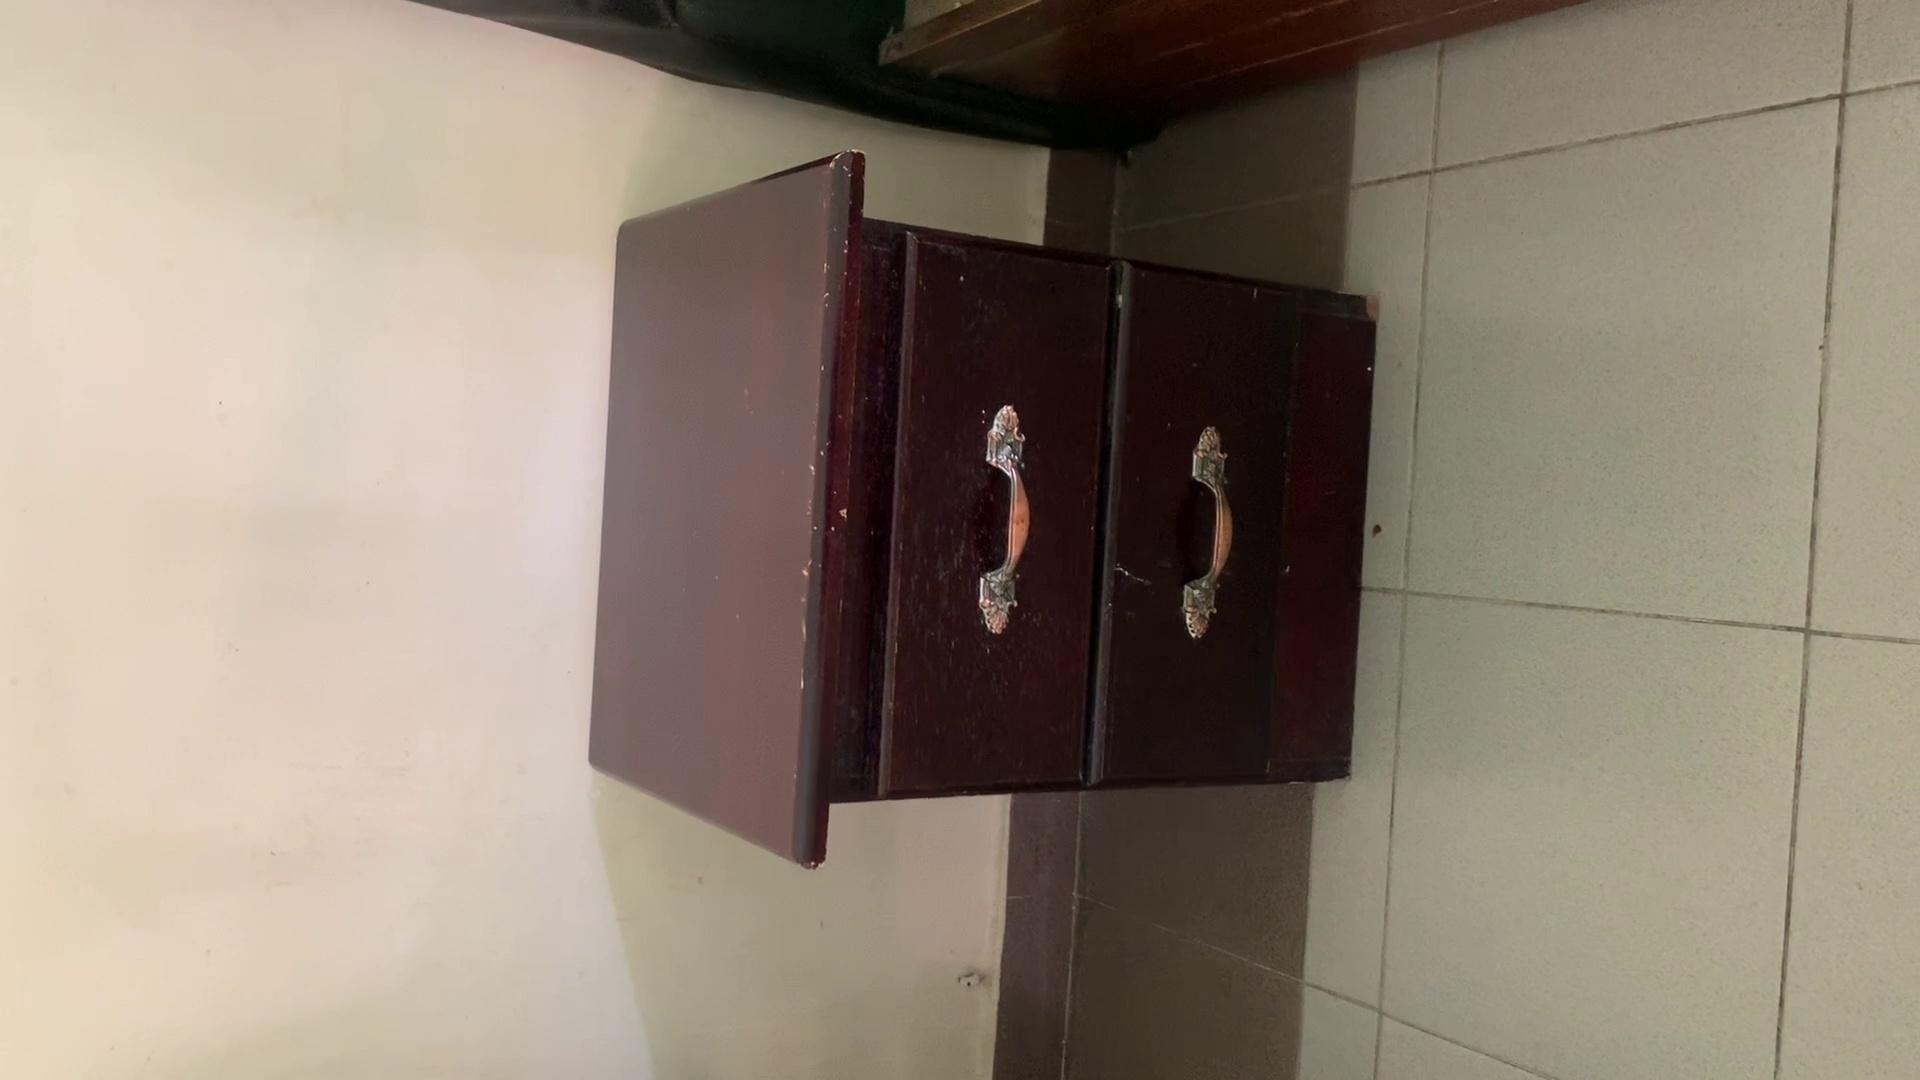cabinet_door: (881, 248, 1091, 782), (1109, 294, 1309, 791)
handle: (968, 402, 1056, 640), (1171, 423, 1253, 637)
